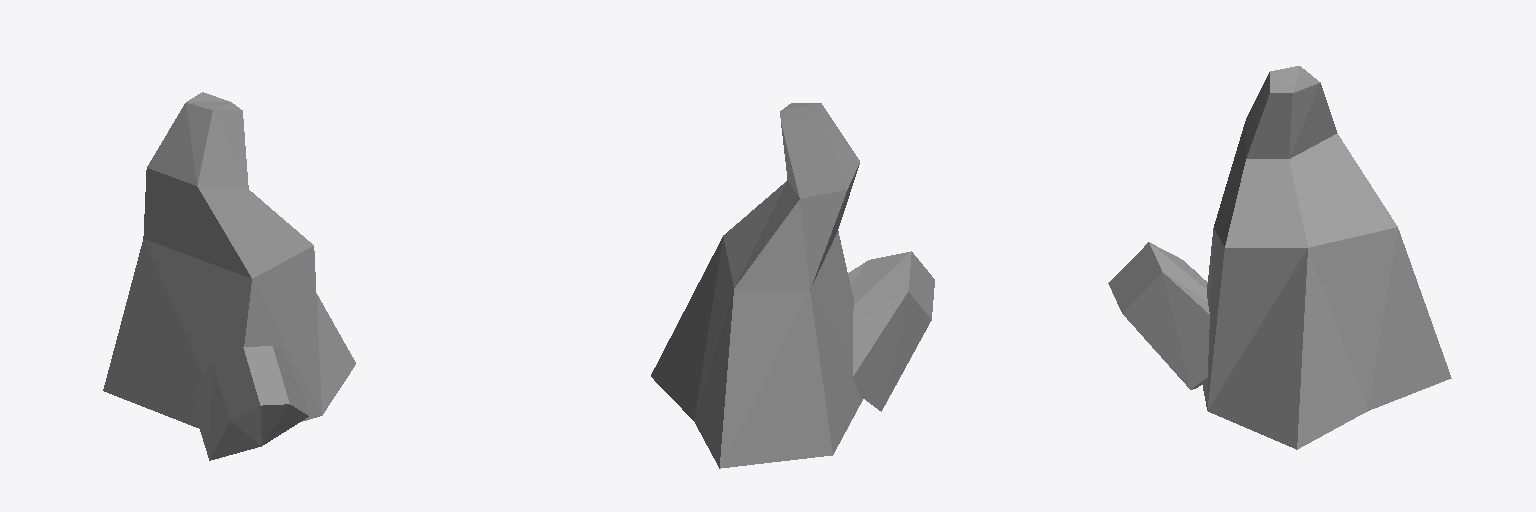
The model's file is rock10.obj.
3 renders of one model, left to right at view 1: azimuth 30°, elevation 25°; view 2: azimuth 150°, elevation 25°; view 3: azimuth 270°, elevation 25°, orthographic.
Parts seen in each view (by area): view 1: Rock_Type3_03_mesh_Cube.024; view 2: Rock_Type3_03_mesh_Cube.024; view 3: Rock_Type3_03_mesh_Cube.024.
Part boxes in pixels (x1,y1,x2,y2): Rock_Type3_03_mesh_Cube.024: (103,92,355,460); Rock_Type3_03_mesh_Cube.024: (651,103,934,468); Rock_Type3_03_mesh_Cube.024: (1108,66,1451,449).
Bounding box in the file's own units: 0.9326 × 1.32 × 1.27.